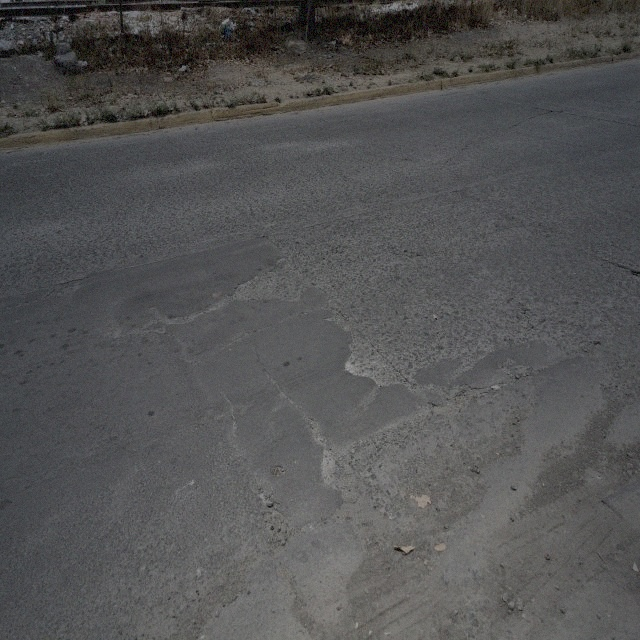pothole: (231, 254, 312, 306), (436, 381, 487, 422), (48, 276, 87, 298), (305, 414, 330, 448), (270, 466, 286, 479)
